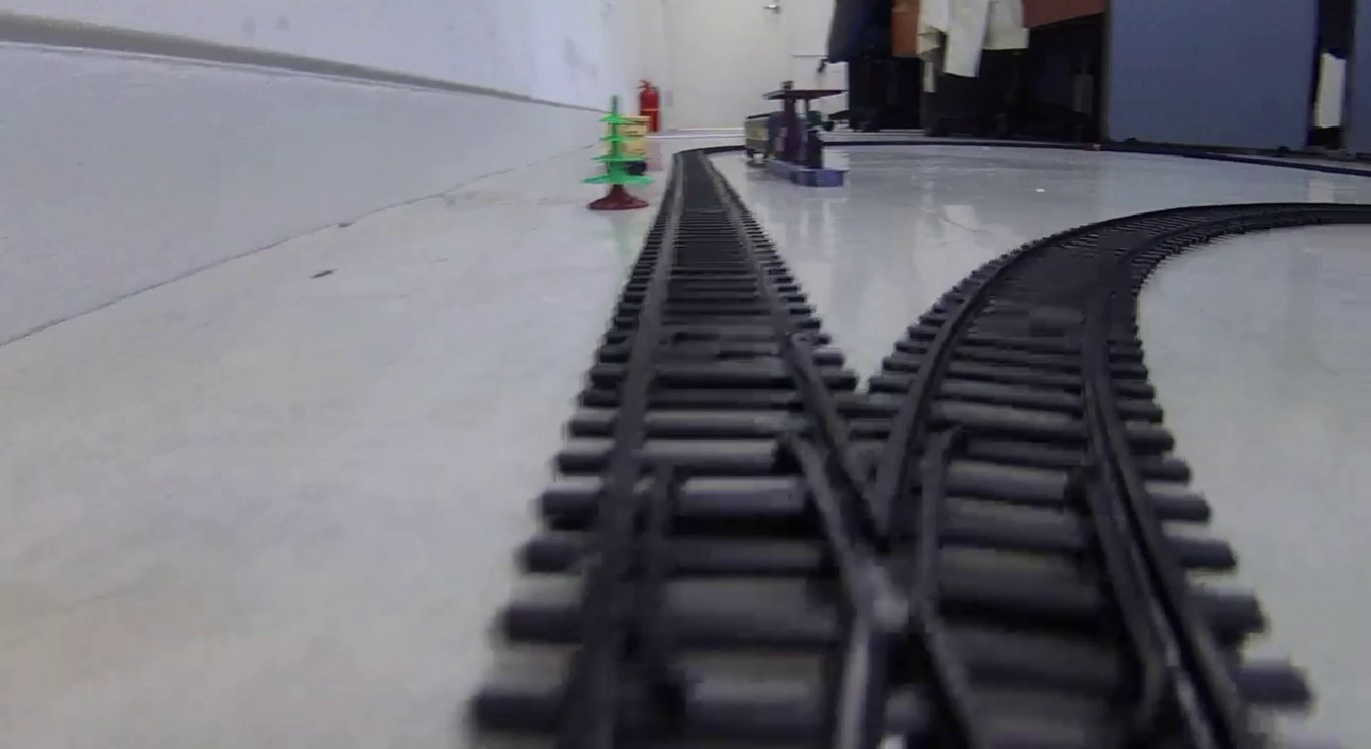tree: (584, 98, 650, 208)
